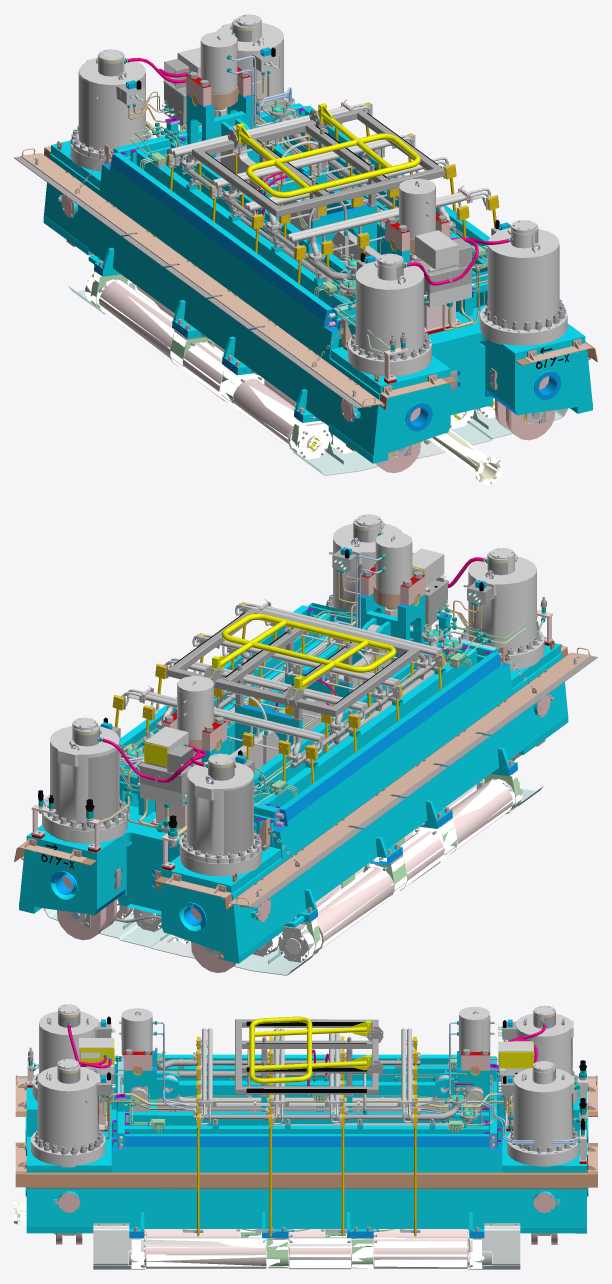
File: SEGMENT_6_9_LOOSE_SIDE_FRAME.glb
The picture shows the model from 3 angles, top to bottom: view 1: azimuth 30°, elevation 25°; view 2: azimuth 150°, elevation 25°; view 3: azimuth 270°, elevation 25°; orthographic projection. The views are drawn at different scales.
Parts seen in each view (by area): view 1: Model, PRESSURE_CYLINDER_1, PRESSURE_CYLINDER_4, ROLLSET_8, PRESSURE_CYLINDER_3, PRESSURE_CYLINDER_2, LIFTING_CYLINDER_RIGHT, LIFTING_CYLINDER_LEFT, ROLLER_7_1, box, ROLLSET_4, ROLLER_7_3; view 2: Model, PRESSURE_CYLINDER_4, PRESSURE_CYLINDER_2, PRESSURE_CYLINDER_3, ROLLSET_8, PRESSURE_CYLINDER_1, LIFTING_CYLINDER_LEFT, LIFTING_CYLINDER_RIGHT, ROLLER_7_1, ROLLER_7_3, box, box_001; view 3: Model, ROLLSET_1, PRESSURE_CYLINDER_2, PRESSURE_CYLINDER_1, PRESSURE_CYLINDER_4, PRESSURE_CYLINDER_3, ROLLER_1_1, LIFTING_CYLINDER_LEFT, ROLLER_1_3, LIFTING_CYLINDER_RIGHT, ROLLER_1_2, box_001 (+1 smaller).
Boxes of the visible parts, x1,y1,x2,y2 form: Model: (14, 18, 597, 484); PRESSURE_CYLINDER_1: (479, 220, 567, 345); PRESSURE_CYLINDER_4: (347, 253, 431, 375); ROLLSET_8: (85, 270, 329, 459); PRESSURE_CYLINDER_3: (72, 49, 153, 159); PRESSURE_CYLINDER_2: (216, 14, 288, 112); LIFTING_CYLINDER_RIGHT: (200, 32, 237, 92); LIFTING_CYLINDER_LEFT: (399, 178, 435, 239); ROLLER_7_1: (233, 379, 317, 450); box: (412, 230, 459, 270); ROLLSET_4: (423, 429, 503, 485); ROLLER_7_3: (98, 281, 175, 364); Model: (14, 518, 597, 975); PRESSURE_CYLINDER_4: (467, 548, 544, 669); PRESSURE_CYLINDER_2: (42, 717, 127, 840); PRESSURE_CYLINDER_3: (179, 753, 261, 863); ROLLSET_8: (280, 771, 522, 961); PRESSURE_CYLINDER_1: (333, 514, 402, 612); LIFTING_CYLINDER_LEFT: (375, 532, 412, 592); LIFTING_CYLINDER_RIGHT: (177, 676, 213, 736); ROLLER_7_1: (450, 780, 512, 853); ROLLER_7_3: (316, 867, 394, 948); box: (412, 548, 446, 589); box_001: (145, 726, 188, 752); Model: (14, 1005, 597, 1269); ROLLSET_1: (128, 1234, 492, 1268); PRESSURE_CYLINDER_2: (507, 1061, 579, 1166); PRESSURE_CYLINDER_1: (31, 1059, 105, 1167); PRESSURE_CYLINDER_4: (32, 1004, 98, 1099); PRESSURE_CYLINDER_3: (515, 1006, 578, 1099); ROLLER_1_1: (143, 1237, 266, 1268); LIFTING_CYLINDER_LEFT: (121, 1008, 152, 1055); ROLLER_1_3: (373, 1237, 470, 1268); LIFTING_CYLINDER_RIGHT: (458, 1006, 490, 1054); ROLLER_1_2: (288, 1237, 351, 1269); box_001: (498, 1041, 533, 1069).
Size of the model in its own units: 2.21 by 2.15 by 5.09.
